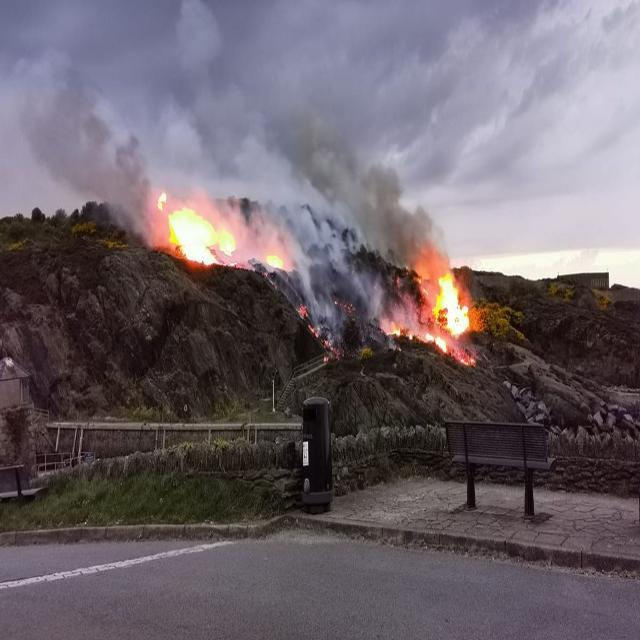Fire: (167, 203, 220, 267), (433, 270, 470, 338), (435, 334, 475, 368), (468, 298, 492, 332), (218, 226, 236, 256), (334, 296, 354, 321), (385, 323, 412, 341), (414, 268, 429, 298), (266, 250, 282, 270), (154, 229, 168, 250), (324, 338, 339, 356), (156, 190, 168, 212), (424, 330, 435, 346), (300, 302, 308, 321), (310, 322, 318, 337)
Smoke: (2, 66, 190, 185), (226, 69, 306, 207), (35, 96, 118, 202), (180, 3, 223, 198), (304, 107, 358, 236), (114, 136, 154, 244), (356, 162, 399, 262), (399, 198, 449, 278), (354, 270, 386, 326), (266, 208, 304, 255), (236, 210, 266, 268), (288, 245, 310, 298), (308, 287, 334, 325), (328, 241, 353, 280), (396, 303, 418, 326)
